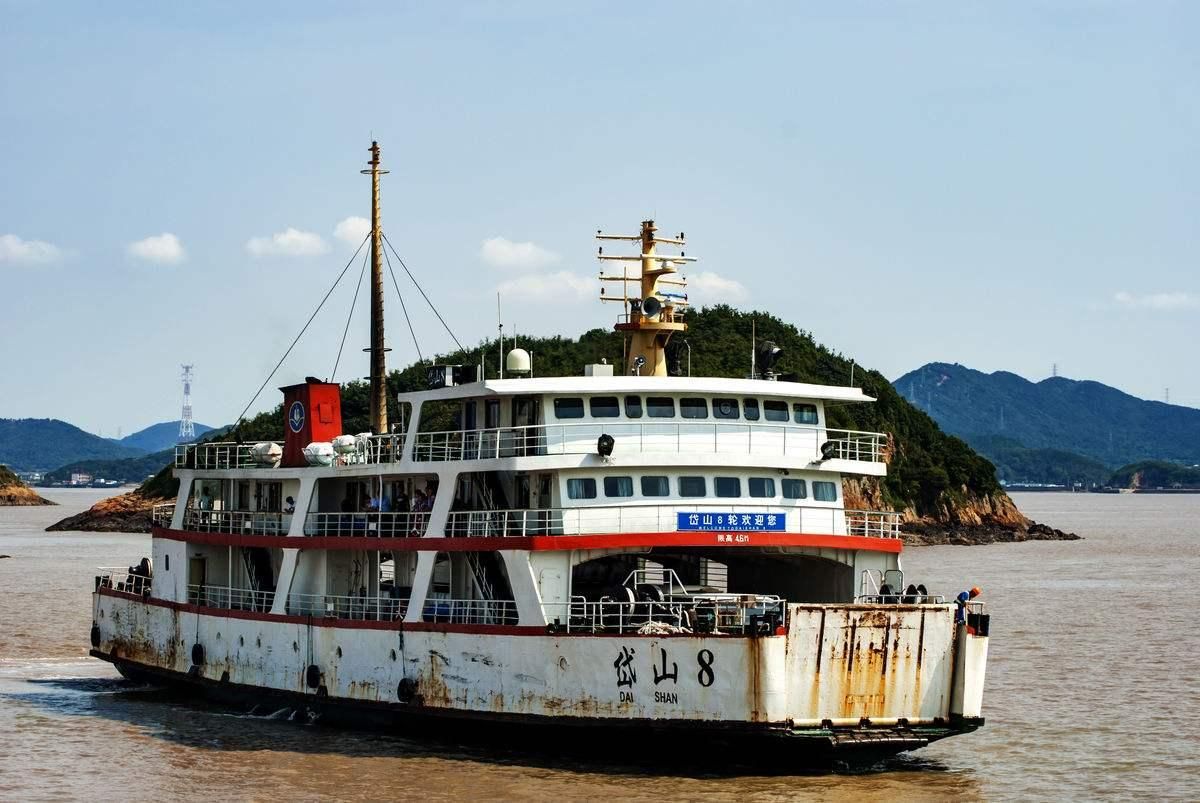otherboat: (77, 139, 995, 748)
